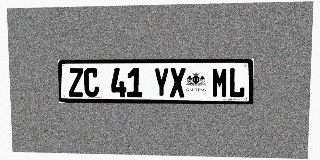1: (127, 68, 142, 97)
4: (111, 68, 126, 97)
C: (84, 68, 99, 97)
L: (228, 67, 245, 98)
M: (212, 67, 228, 98)
X: (170, 68, 186, 98)
Y: (153, 68, 169, 97)
Z: (68, 68, 84, 97)
